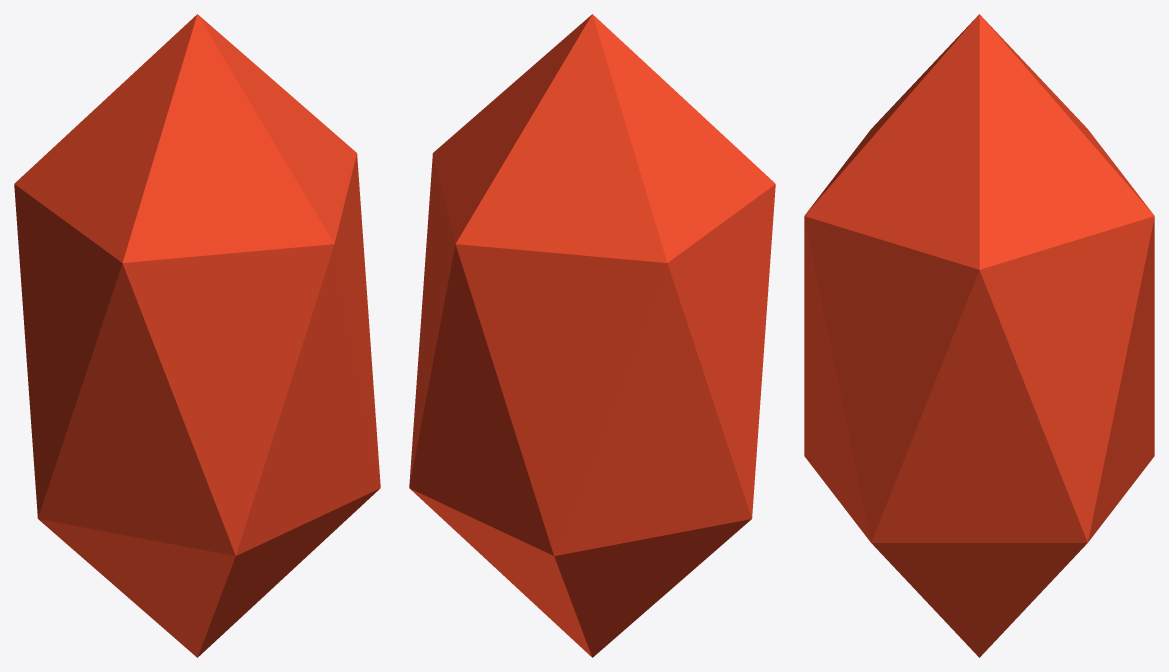
File: fx_shard.gltf
3 views of the same model, side by side, from view 1: azimuth 30°, elevation 25°; view 2: azimuth 150°, elevation 25°; view 3: azimuth 270°, elevation 25° (orthographic).
Visible parts, largest first — view 1: fx_shard; view 2: fx_shard; view 3: fx_shard.
Boxes of the visible parts, x1,y1,x2,y2 form: fx_shard: (14, 14, 380, 657); fx_shard: (409, 14, 775, 657); fx_shard: (804, 14, 1154, 657).
Bounding box in the file's own units: 1.04 × 2 × 0.9867.
